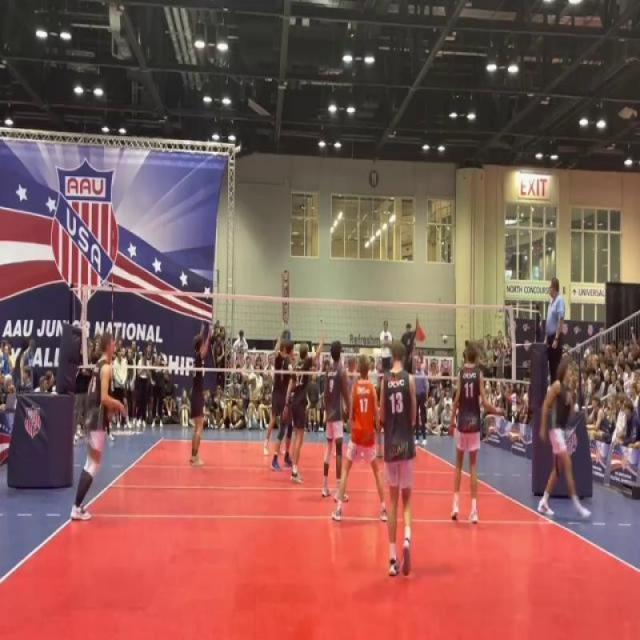volleyball: (442, 333, 448, 345)
